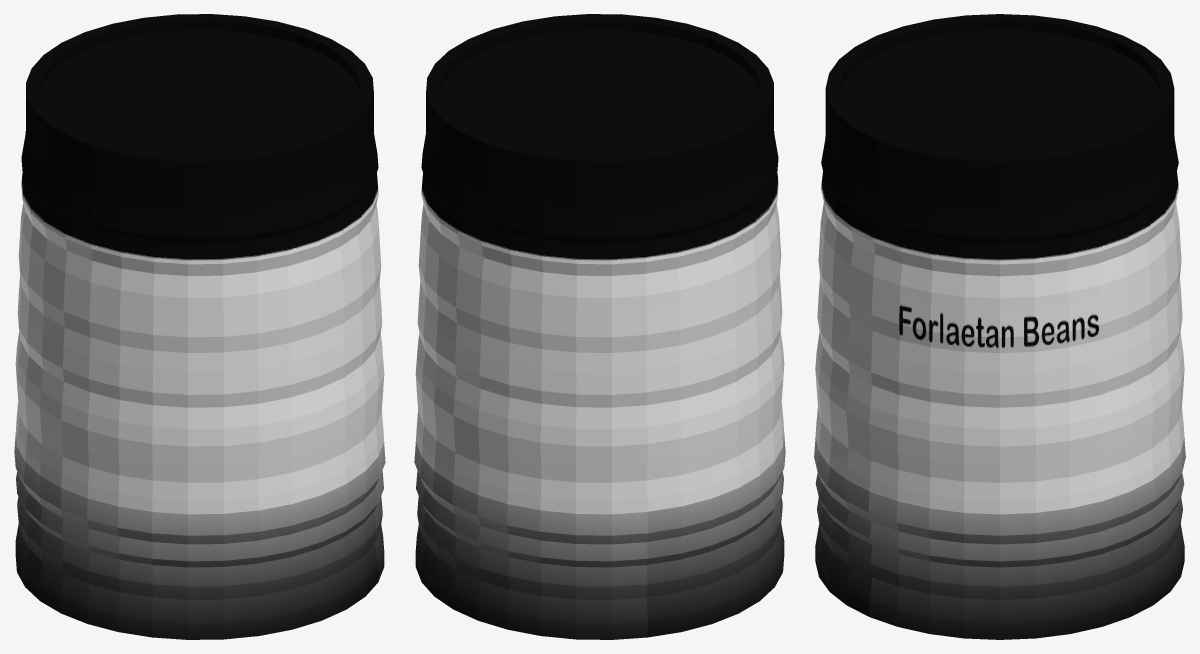
Rendered from Beans1.fbx.
3 views of the same model, side by side, from view 1: azimuth 30°, elevation 25°; view 2: azimuth 150°, elevation 25°; view 3: azimuth 270°, elevation 25° (orthographic).
Visible parts, largest first — view 1: Cylinder; view 2: Cylinder; view 3: Cylinder.
Part boxes in pixels (x1,y1,x2,y2): Cylinder: [14, 14, 385, 639]; Cylinder: [414, 14, 785, 639]; Cylinder: [814, 14, 1185, 639].
Bounding box in the file's own units: 201 × 284 × 201.
